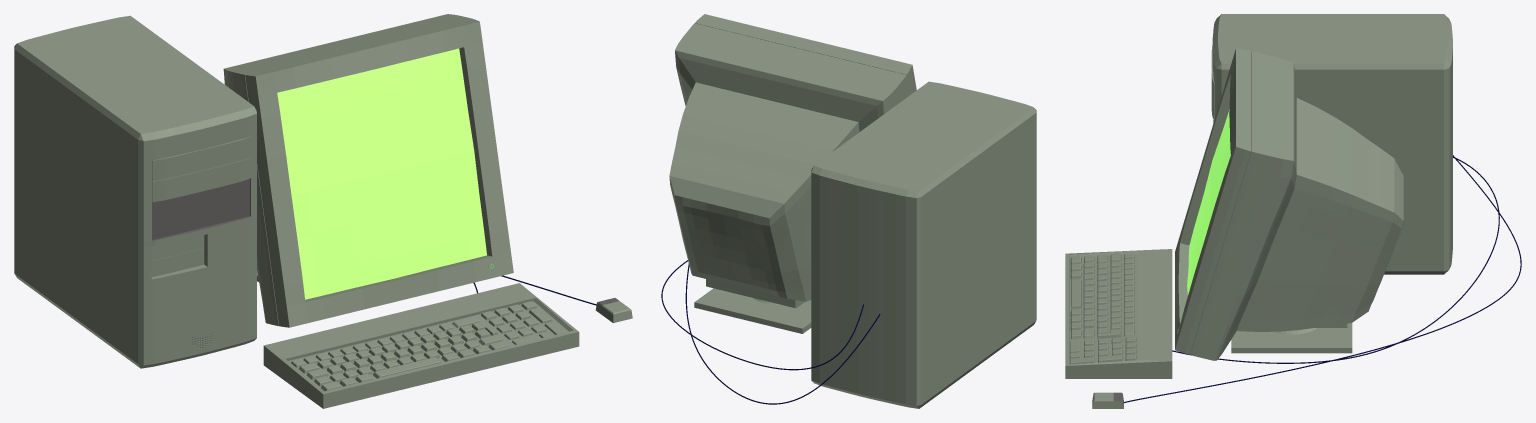
Rendered from old_computer.glb.
3 renders of one model, left to right at view 1: azimuth 30°, elevation 25°; view 2: azimuth 150°, elevation 25°; view 3: azimuth 270°, elevation 25°, orthographic. The views are drawn at different scales.
Parts seen in each view (by area): view 1: Pc Tower_7, Monitor_5, Cube_8, Mouse_1; view 2: Pc Tower_7, Monitor_5, Mouse Wire.001_4, Keyboard Wire.001_3; view 3: Monitor_5, Pc Tower_7, Cube_8, Mouse Wire.001_4, Keyboard Wire.001_3, Mouse_1.
Part boxes in pixels (x1,y1,x2,y2): Pc Tower_7: [14, 15, 256, 368]; Monitor_5: [223, 14, 513, 327]; Cube_8: [263, 283, 579, 408]; Mouse_1: [595, 298, 632, 322]; Pc Tower_7: [811, 81, 1036, 408]; Monitor_5: [669, 14, 916, 333]; Mouse Wire.001_4: [685, 263, 880, 404]; Keyboard Wire.001_3: [661, 260, 863, 370]; Monitor_5: [1175, 48, 1403, 360]; Pc Tower_7: [1211, 14, 1452, 274]; Cube_8: [1065, 249, 1172, 378]; Mouse Wire.001_4: [1123, 155, 1521, 402]; Keyboard Wire.001_3: [1172, 156, 1499, 363]; Mouse_1: [1092, 392, 1123, 408].
Size of the model in its own units: 3.77 by 2.19 by 3.92.
